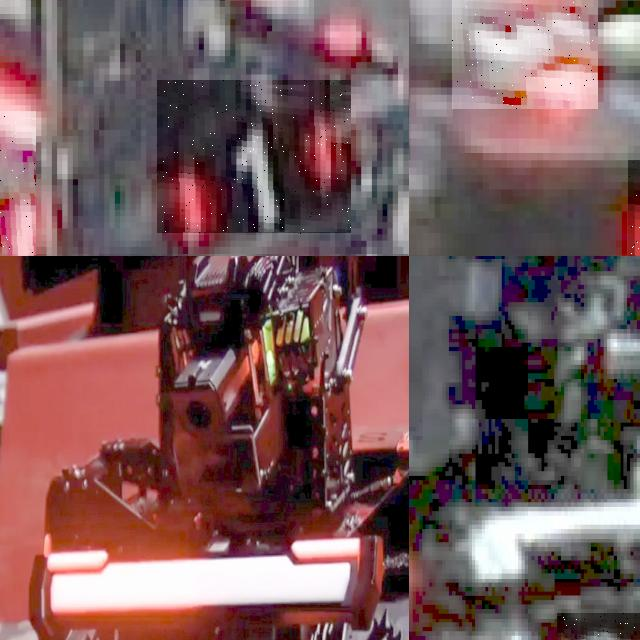R1: (157, 80, 351, 234), (0, 111, 36, 256)
R5: (452, 0, 597, 109)
Rs: (557, 613, 640, 640)
